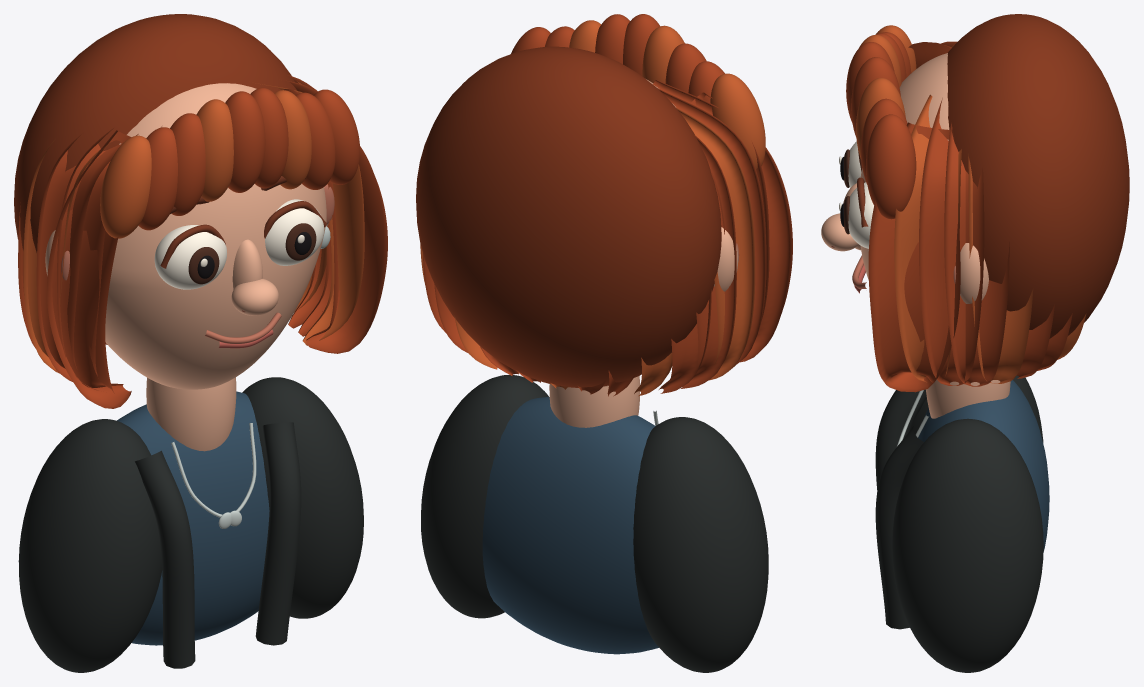
The model's file is lydia.glb.
3 views of the same model, side by side, from view 1: azimuth 30°, elevation 25°; view 2: azimuth 150°, elevation 25°; view 3: azimuth 270°, elevation 25° (orthographic). The views are drawn at different scales.
Visible parts, largest first — view 1: cardigan (×2), face, fringe (×9), hair_back, denim_top, lapel (×2), object 51, object 49, object 52, neck, object 33, sclera (×2) (+11 smaller); view 2: hair_back, cardigan (×2), denim_top, fringe (×8), object 48, object 51, object 49, object 47, neck, object 46, object 50, ear (+3 smaller); view 3: hair_back, cardigan (×2), fringe (×7), object 34, object 52, object 35, lapel (×2), denim_top, object 33, face, object 36, neck (+6 smaller).
Part boxes in pixels (x1,y1,x2,y2): cardigan (×2): (18, 377, 363, 672); face: (105, 83, 326, 389); fringe (×9): (100, 87, 359, 238); hair_back: (14, 14, 297, 344); denim_top: (117, 391, 269, 645); lapel (×2): (135, 422, 301, 668); object 51: (47, 130, 131, 408); object 49: (36, 134, 138, 381); object 52: (283, 89, 387, 353); neck: (146, 377, 236, 451); object 33: (255, 83, 364, 345); sclera (×2): (154, 199, 324, 289); hair_back: (416, 46, 721, 387); cardigan (×2): (421, 375, 768, 672); denim_top: (482, 397, 658, 654); fringe (×8): (511, 14, 765, 169); object 48: (676, 107, 755, 380); object 51: (690, 92, 792, 362); object 49: (657, 88, 766, 365); object 47: (680, 134, 736, 388); neck: (549, 376, 640, 427); object 46: (659, 289, 711, 393); object 50: (653, 79, 769, 320); ear: (714, 227, 738, 291); hair_back: (947, 14, 1129, 338); cardigan (×2): (892, 375, 1043, 672); fringe (×7): (846, 25, 916, 219); object 34: (919, 98, 984, 385); object 52: (868, 122, 960, 392); object 35: (944, 122, 1009, 386); lapel (×2): (875, 389, 926, 629); denim_top: (918, 380, 1049, 552); object 33: (894, 94, 961, 382); face: (860, 53, 949, 280); object 36: (968, 154, 1033, 383); neck: (926, 379, 1010, 418).
Size of the model in its own units: 2.47 by 4.38 by 2.08.
